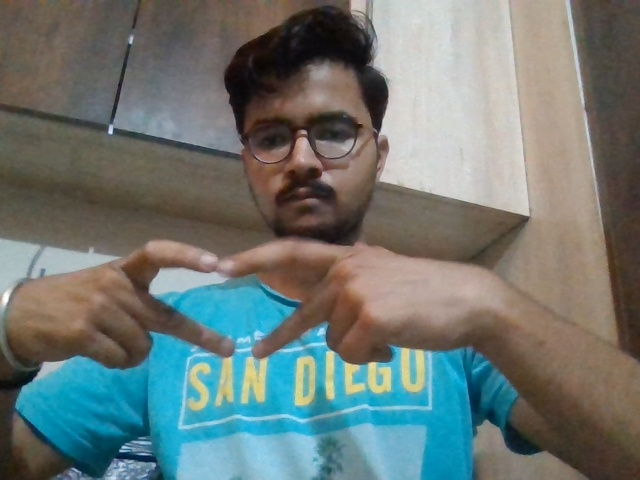iloveyou: (42, 225, 463, 388)
